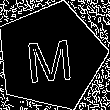M_N: (25, 29, 77, 84)
